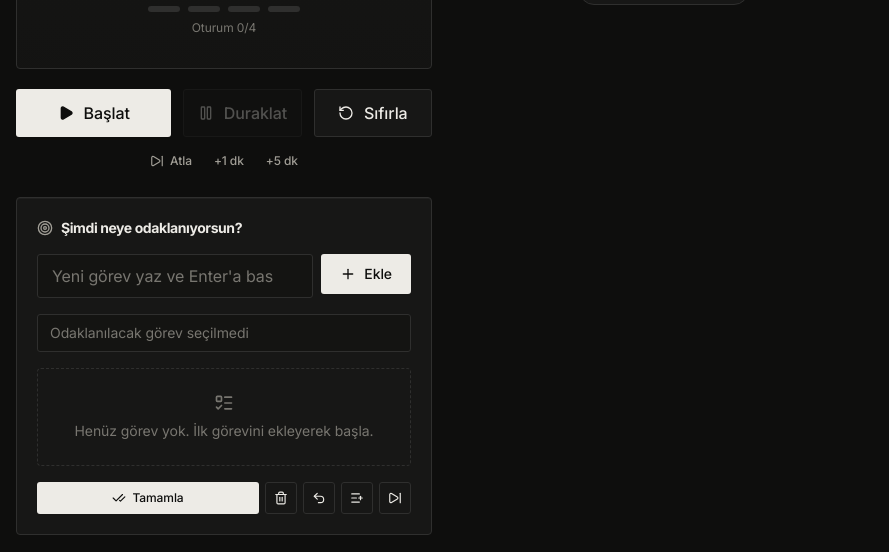
Test: PomodoroApp › falls back to transparent in-session operation when the database is unavailable
The image size is (889, 552).
(page scrolled)
Expected: the button "Başlat" is shown, [16,89,171,137]
Type "Geçici görev" into the field with placeholder "Yeni görev yaz ve Enter'a bas" at (175, 276), box [37,254,313,298]
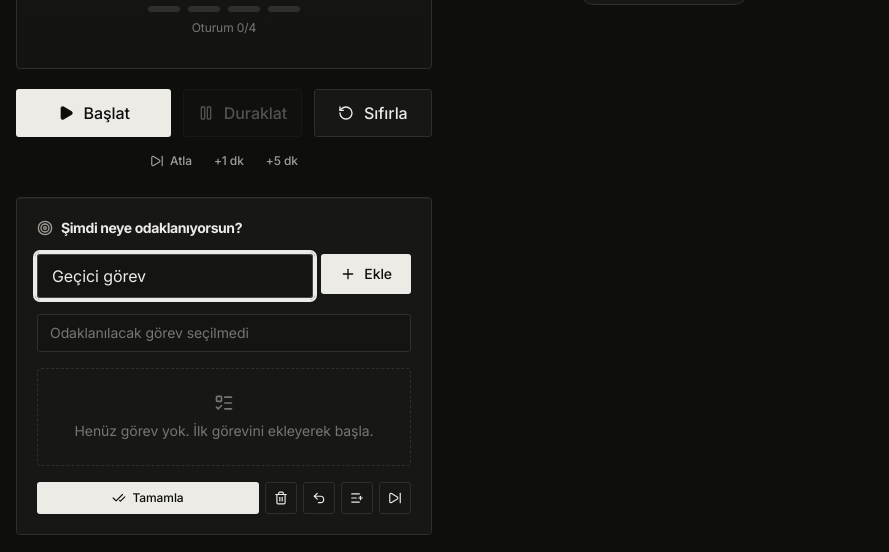
Click the button "Ekle" at (366, 274), box [321,254,411,294]
(page scrolled)
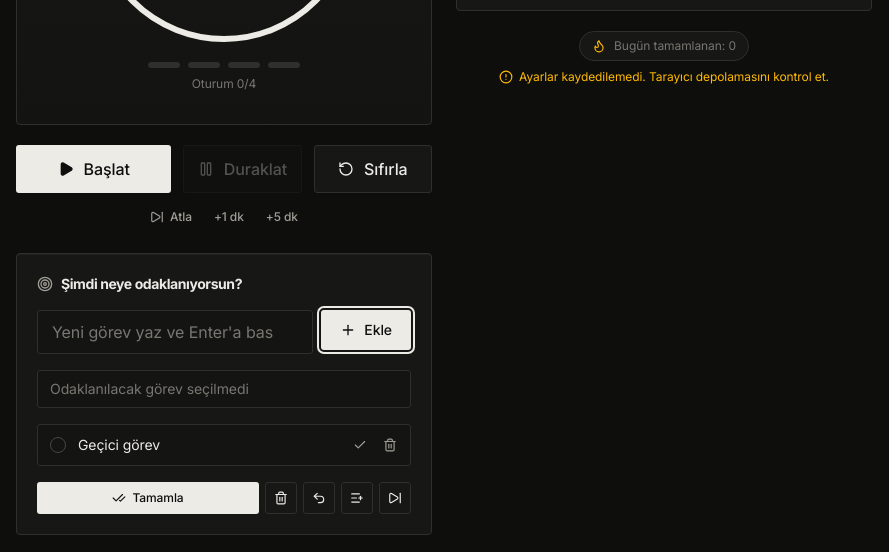
Expected: the text "Geçici görev" is shown, [78,436,160,453]
Expected: the message shows "Ayarlar kaydedilemedi", [519,69,829,84]
